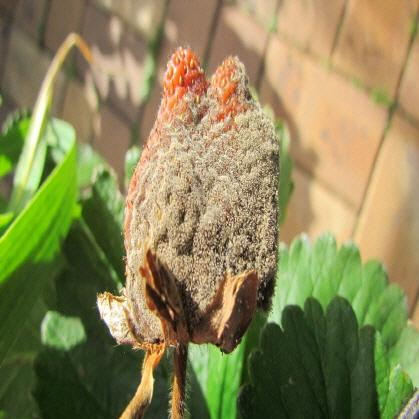Gray Mold: (93, 44, 280, 355)
